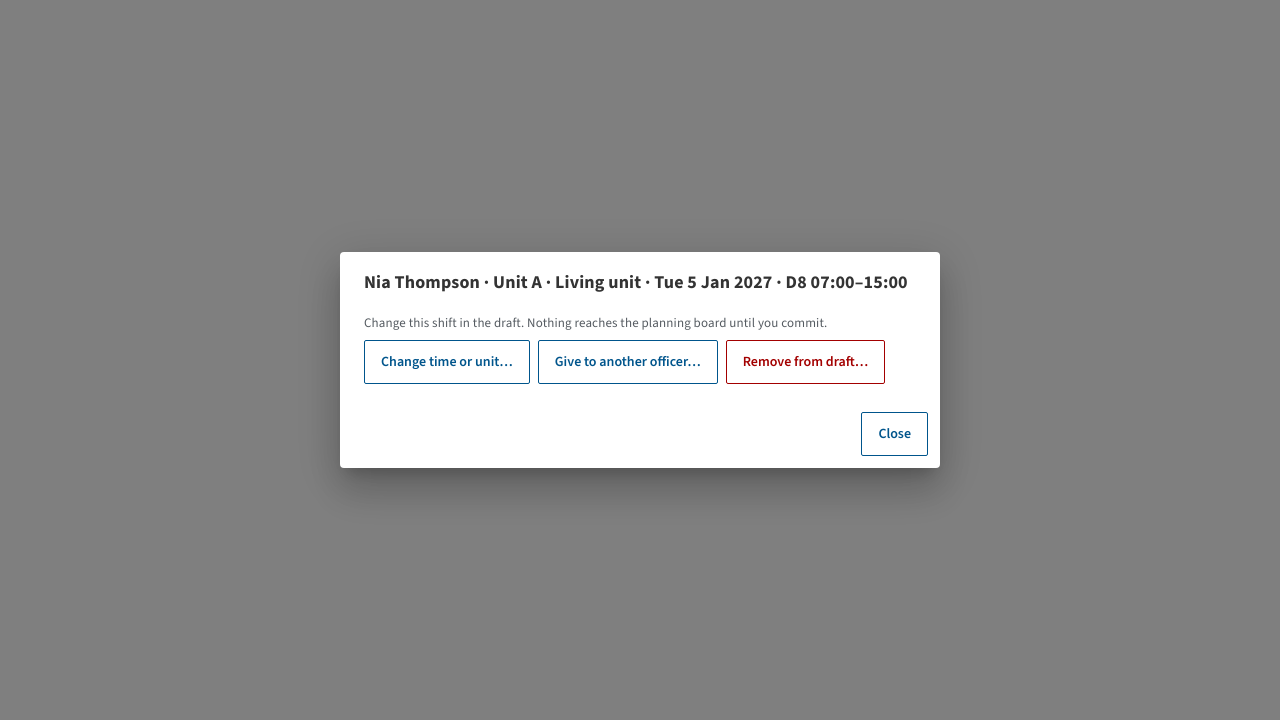
Test: the draft shift dialog › never shows raw error text on a generic failure
The width and height of the screenshot is (1280, 720).
Click the button "Change time or unit…". click: (447, 362)
box: [364,340,530,384]
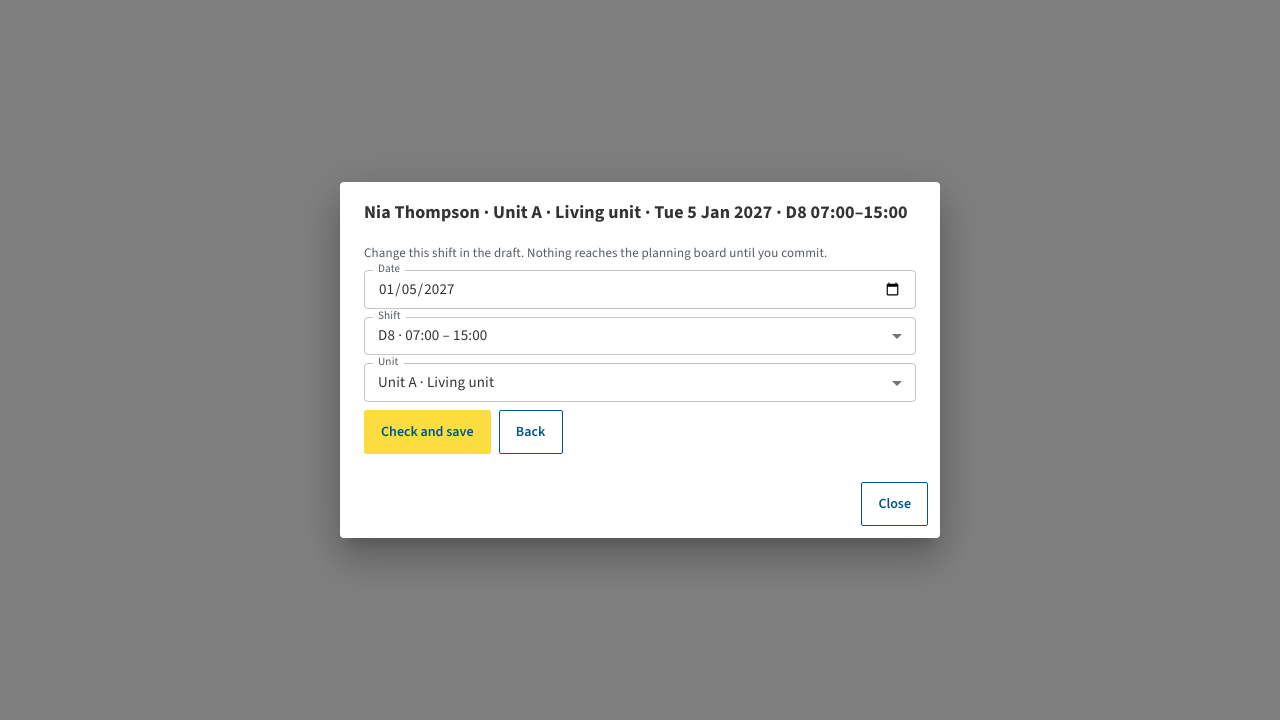
Click the button "Check and save". click: (427, 432)
box: [364,410,490,454]
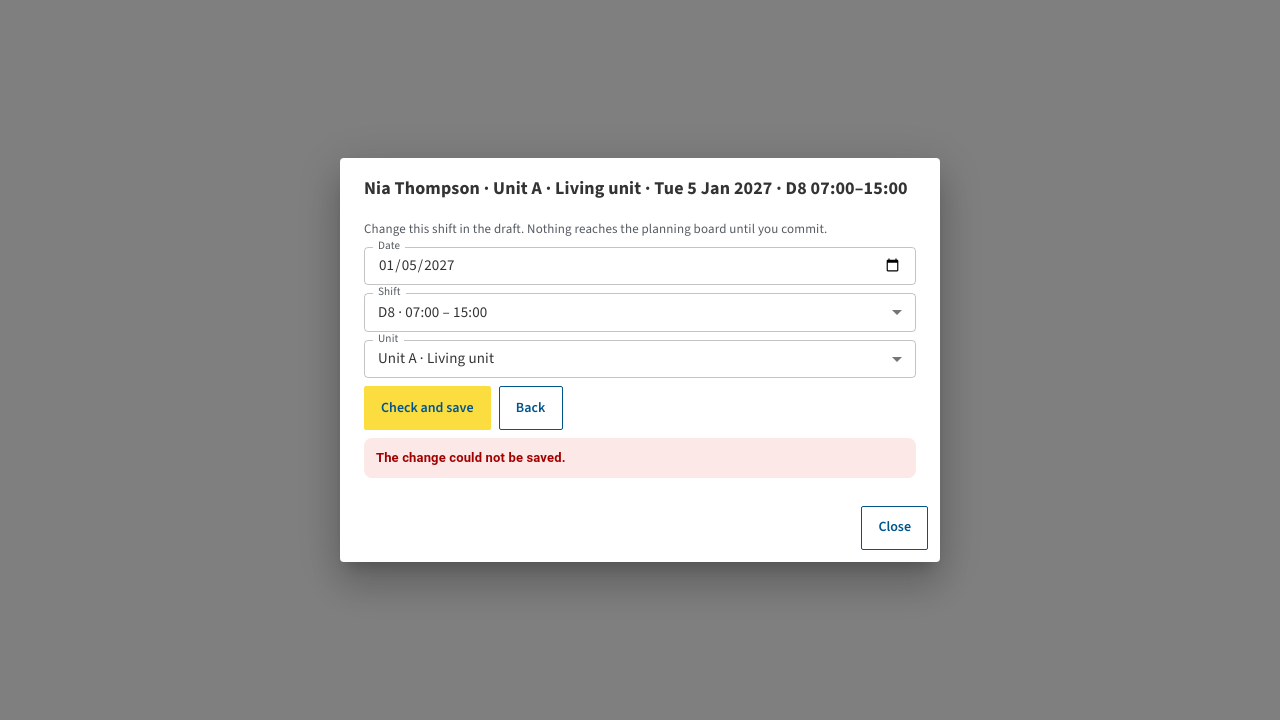
Expected: the text "The change could not be saved." is shown, [364,438,916,478]
